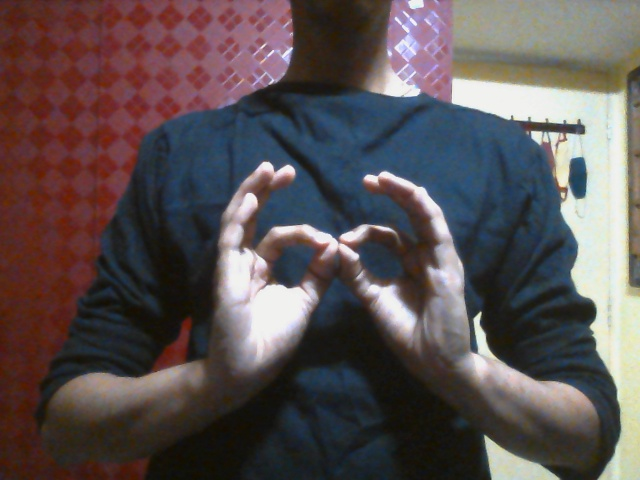B: (205, 160, 473, 412)
